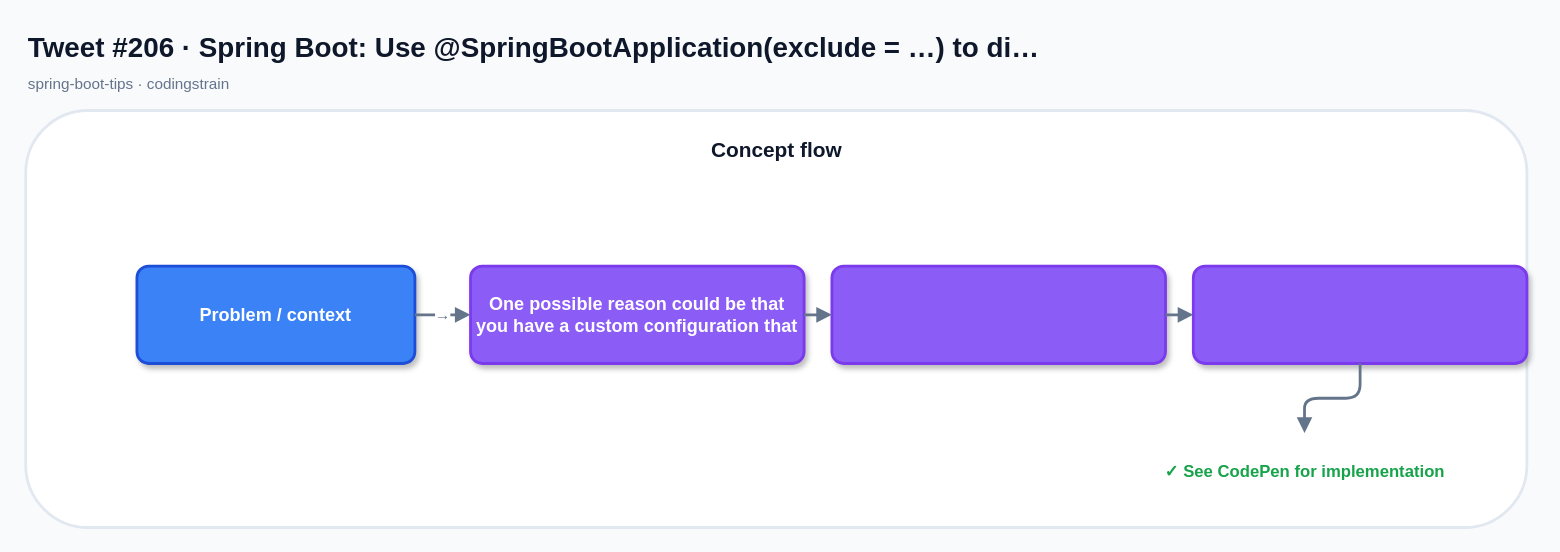
This 1560x552 diagram has some shape labels left out. The centre of each missing label's shape, as x and y in pixels:
"#SpringBoot #JavaDev" belongs at pixel 999 316.
"Runnable sample: `spring-boot-tips`" belongs at pixel 1361 316.
